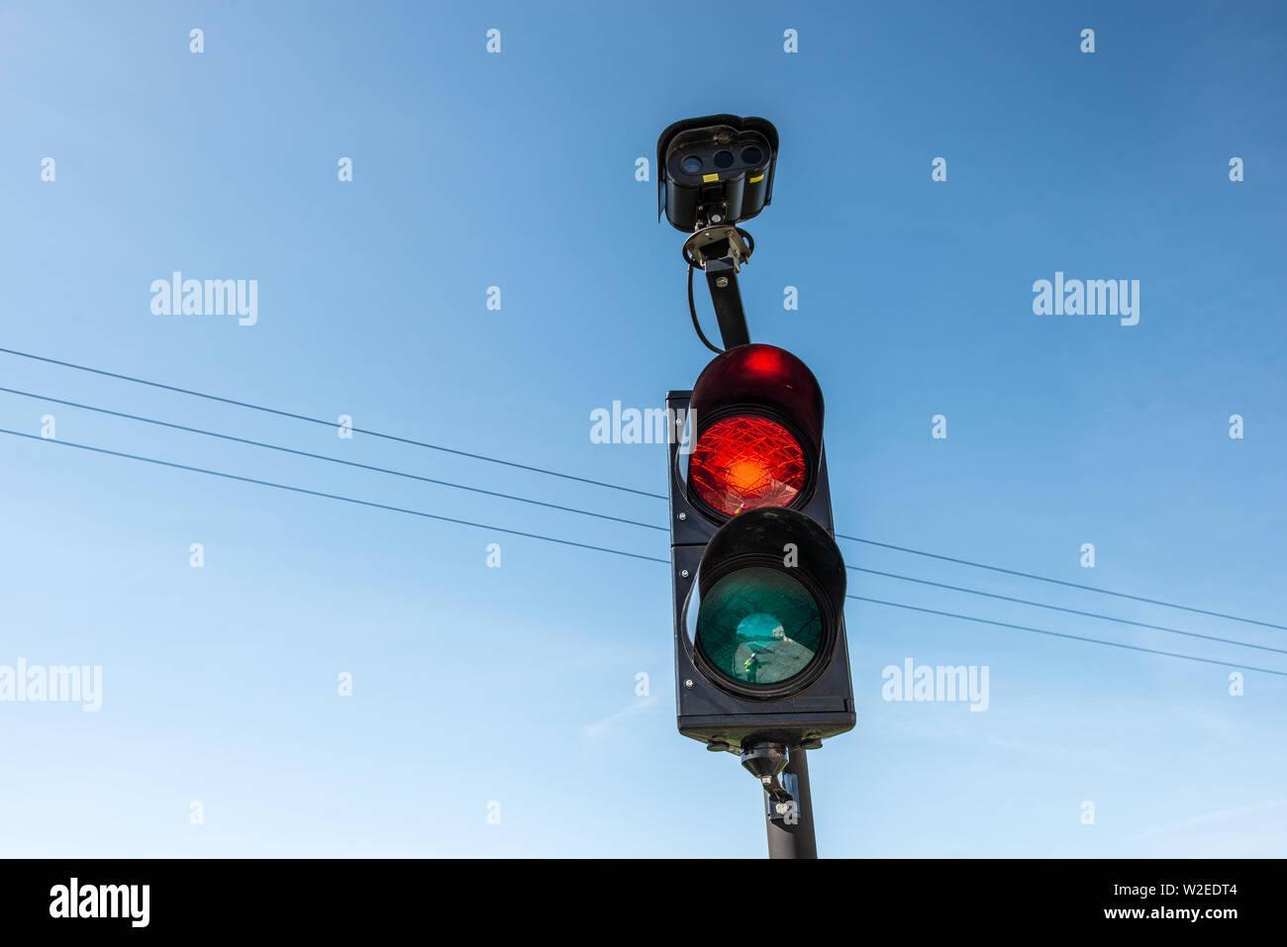Monitor: (614, 52, 811, 290)
